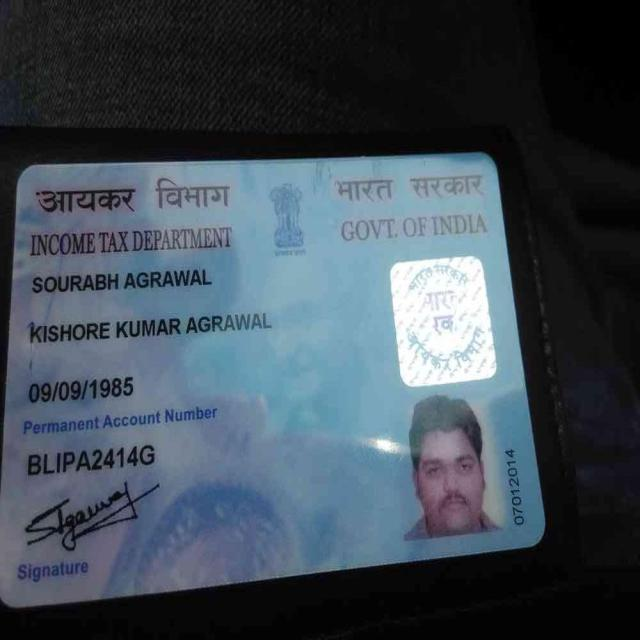pan_card: (1, 152, 546, 607)
